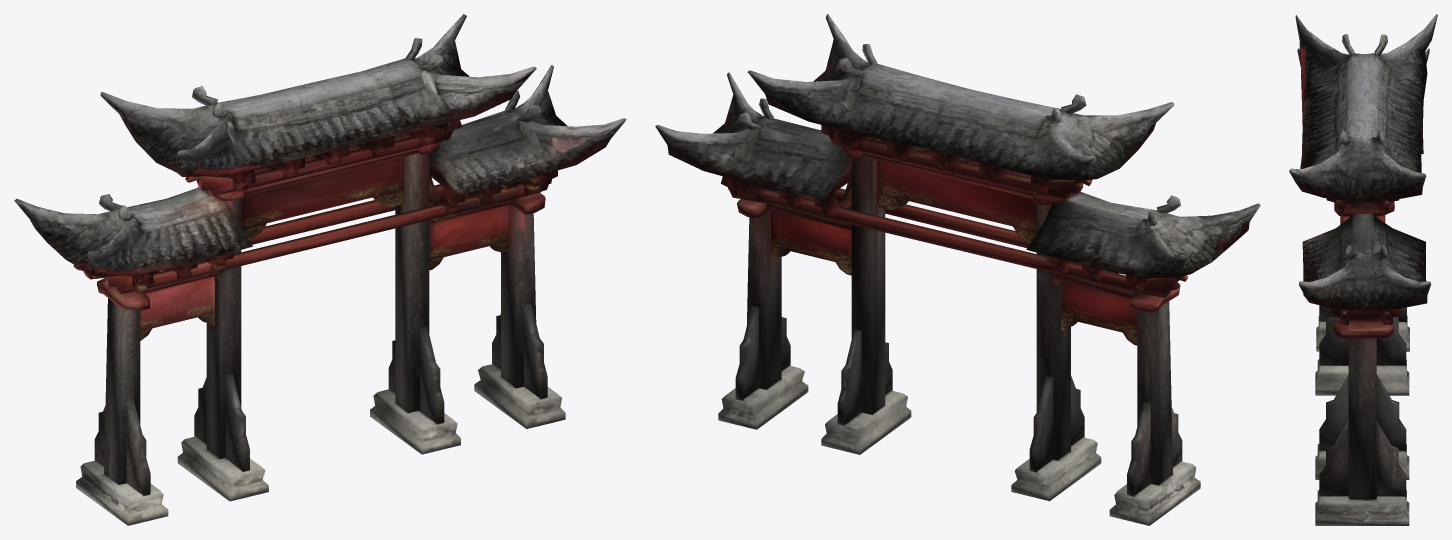
The model's file is tea-road-paifang.glb.
The picture shows the model from 3 angles, left to right: view 1: azimuth 30°, elevation 25°; view 2: azimuth 150°, elevation 25°; view 3: azimuth 270°, elevation 25°; orthographic projection. The views are drawn at different scales.
Parts seen in each view (by area): view 1: tea-road-paifang; view 2: tea-road-paifang; view 3: tea-road-paifang.
Part boxes in pixels (bbox=[...]): tea-road-paifang: bbox=[14, 14, 626, 525]; tea-road-paifang: bbox=[655, 14, 1260, 525]; tea-road-paifang: bbox=[1289, 14, 1437, 525].
Size of the model in its own units: 13.01 by 8.88 by 3.45.
1 material, 1 textured.
